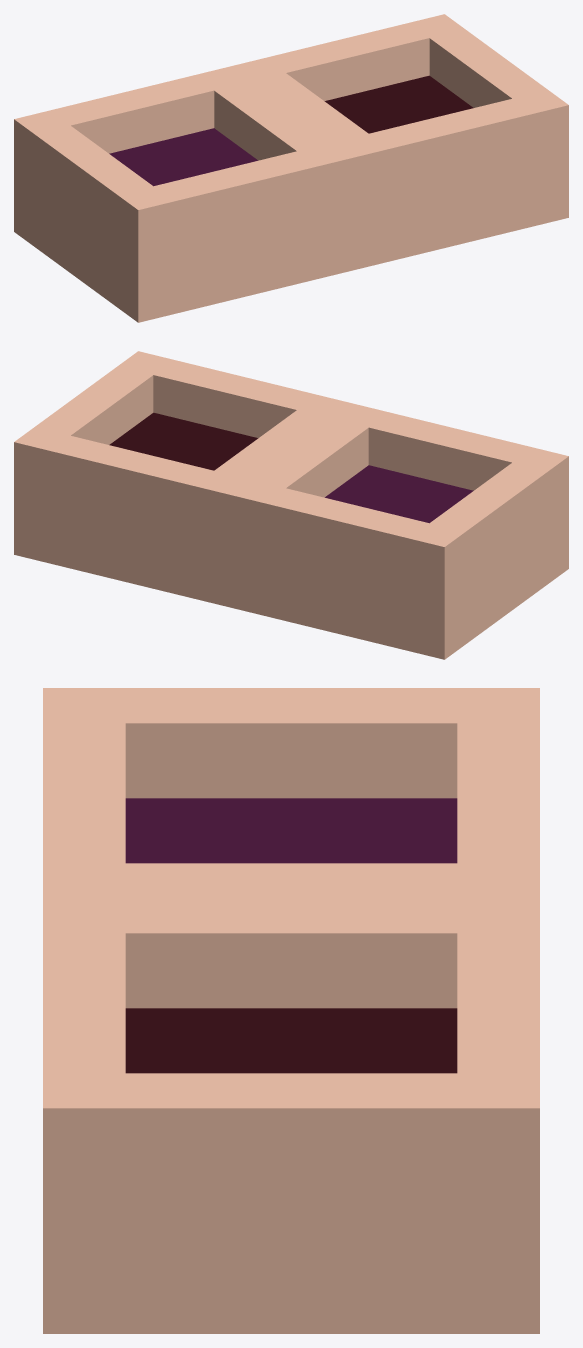
File: SalsasN.fbx
3 views of the same model, one above another, from view 1: azimuth 30°, elevation 25°; view 2: azimuth 150°, elevation 25°; view 3: azimuth 270°, elevation 25° (orthographic). The views are drawn at different scales.
Visible parts, largest first — view 1: Salsas; view 2: Salsas; view 3: Salsas.
Part boxes in pixels (x1=…): Salsas: x1=14, y1=14, x2=568, y2=322; Salsas: x1=14, y1=351, x2=568, y2=659; Salsas: x1=43, y1=688, x2=539, y2=1333.
Bounding box in the file's own units: 1.2 × 0.6 × 0.3.
